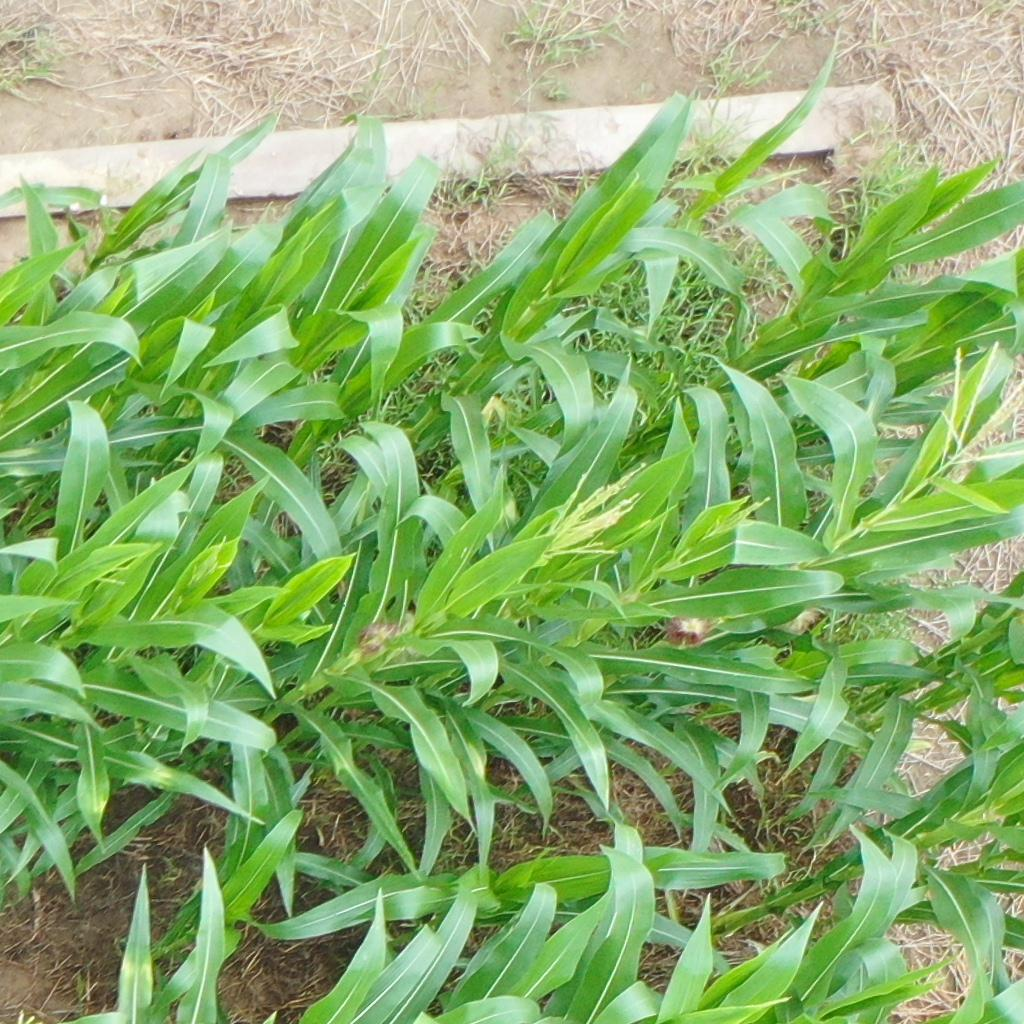Tassel: (928, 340, 1022, 477), (533, 461, 646, 570), (706, 494, 775, 537), (183, 534, 236, 588), (93, 554, 133, 593)
